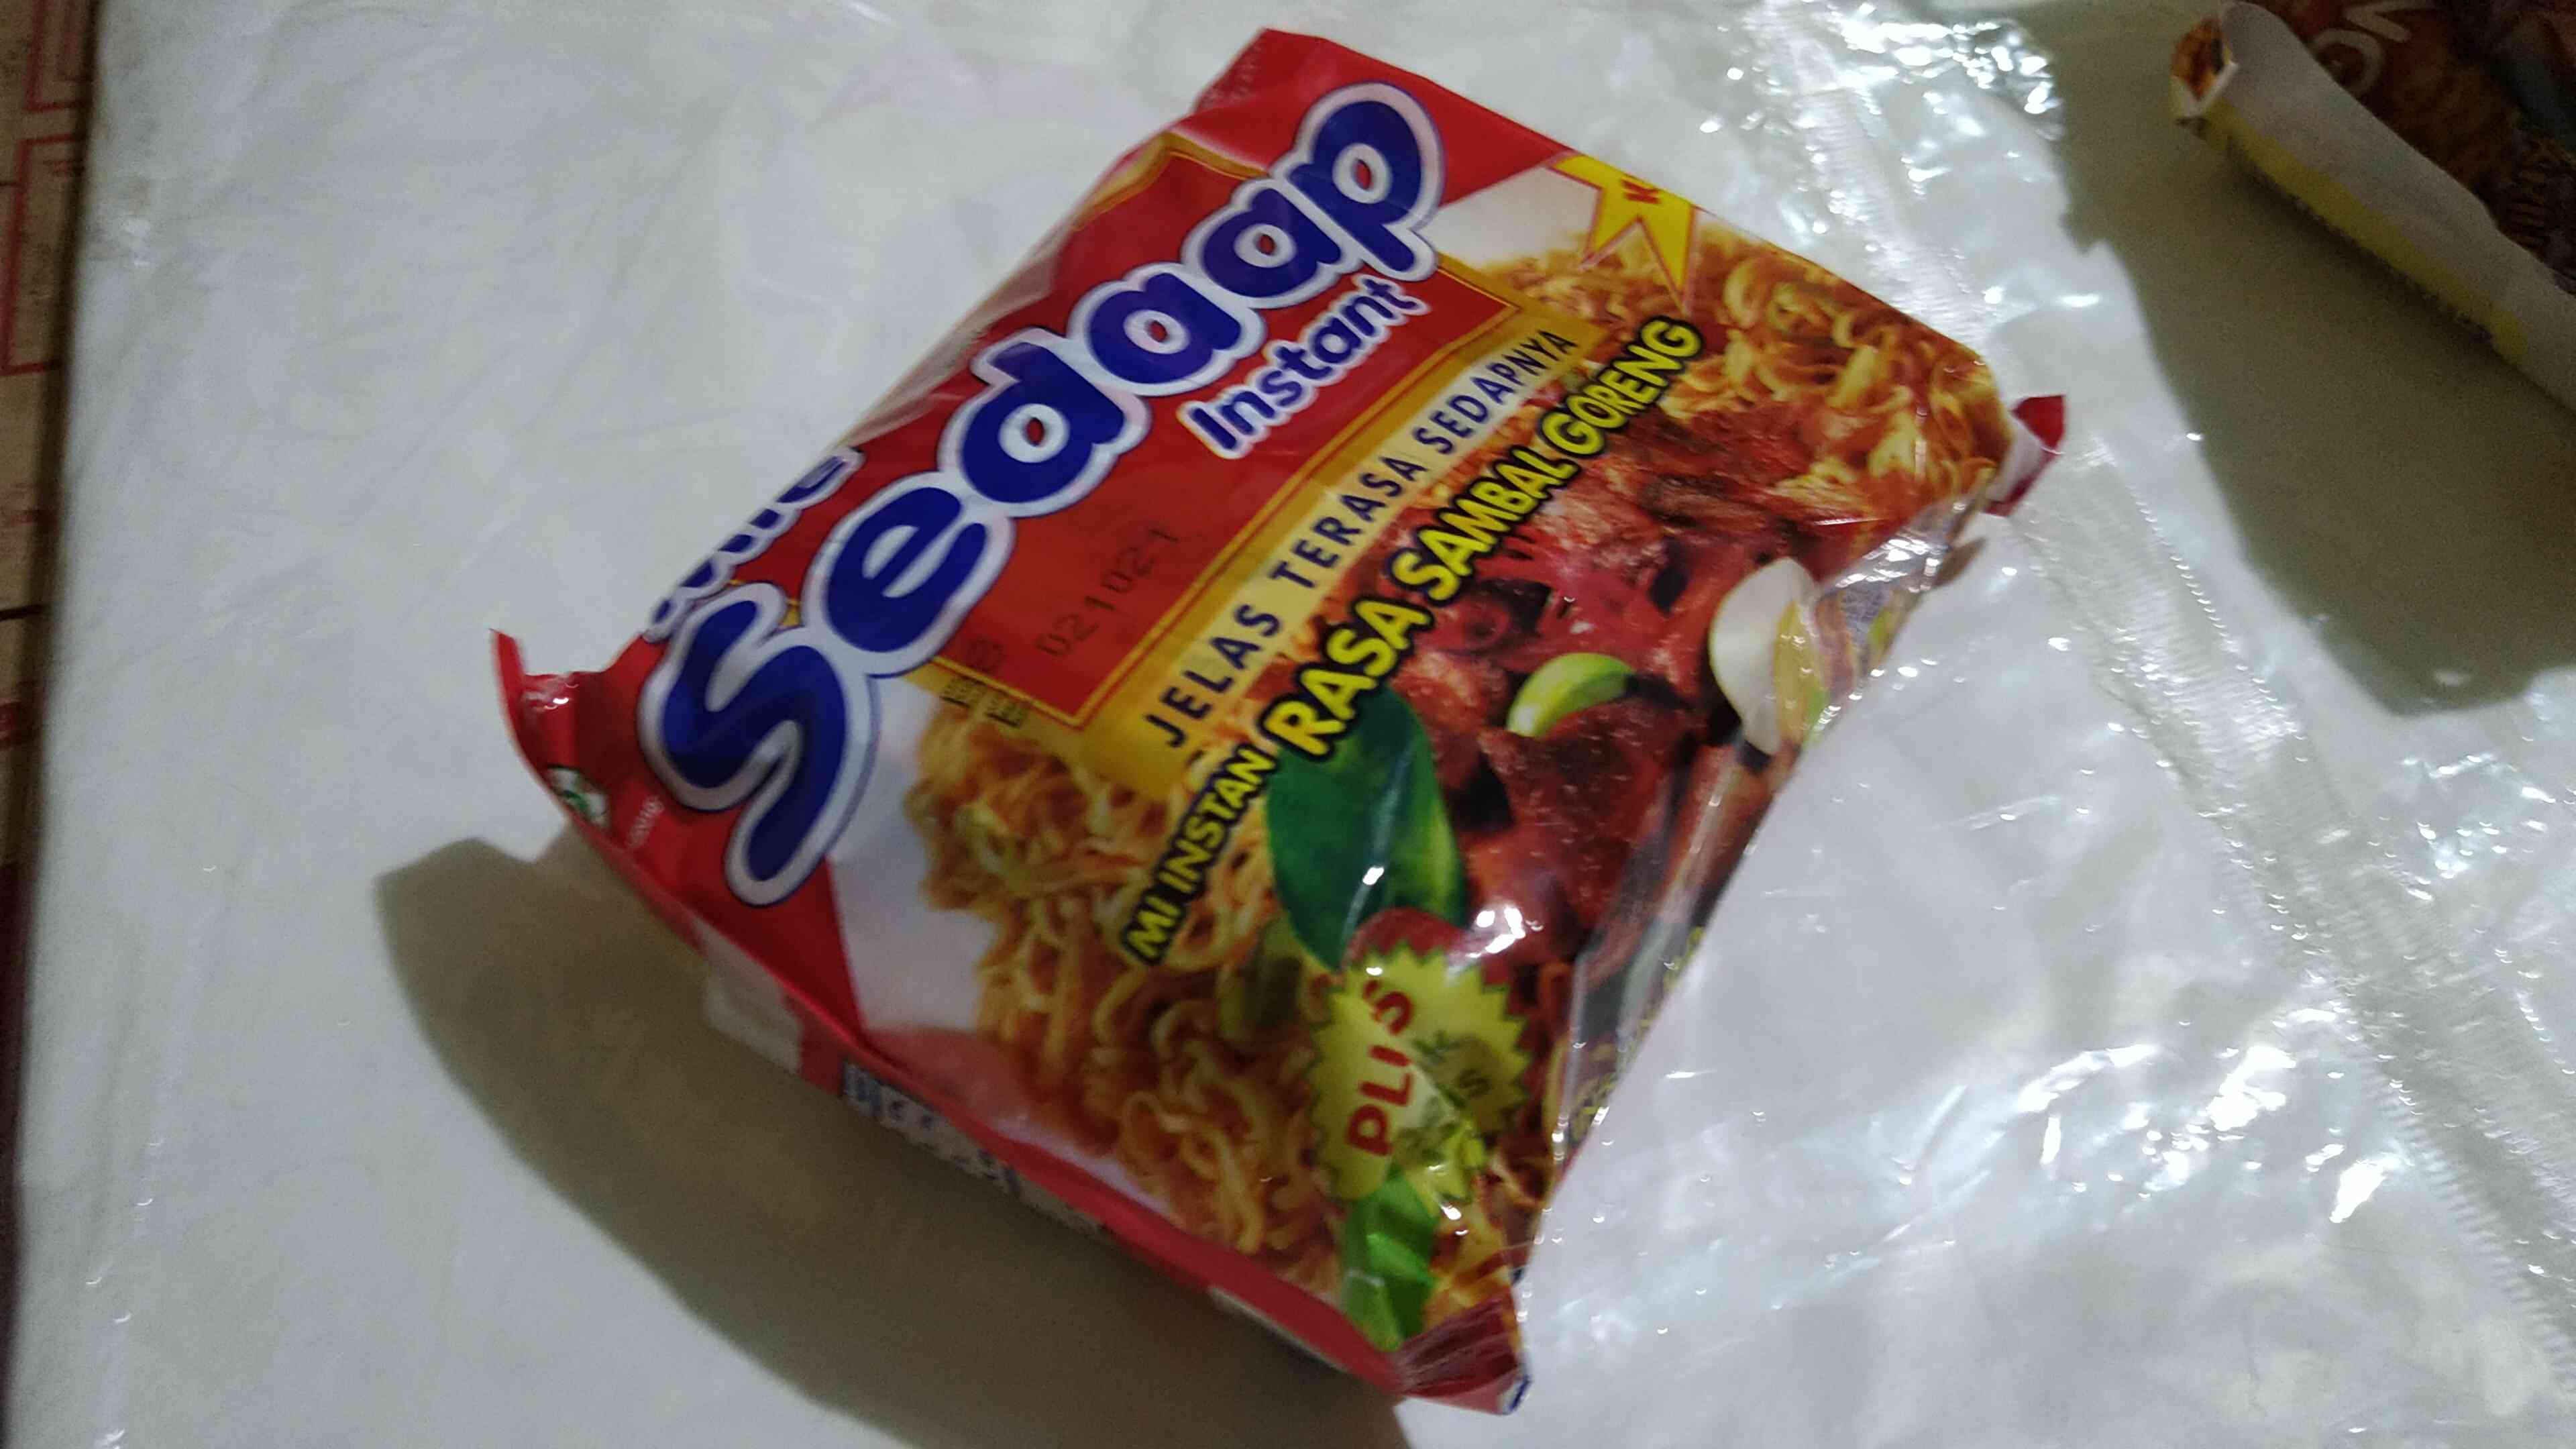sedaap sambal goreng: (522, 14, 1950, 1408)
